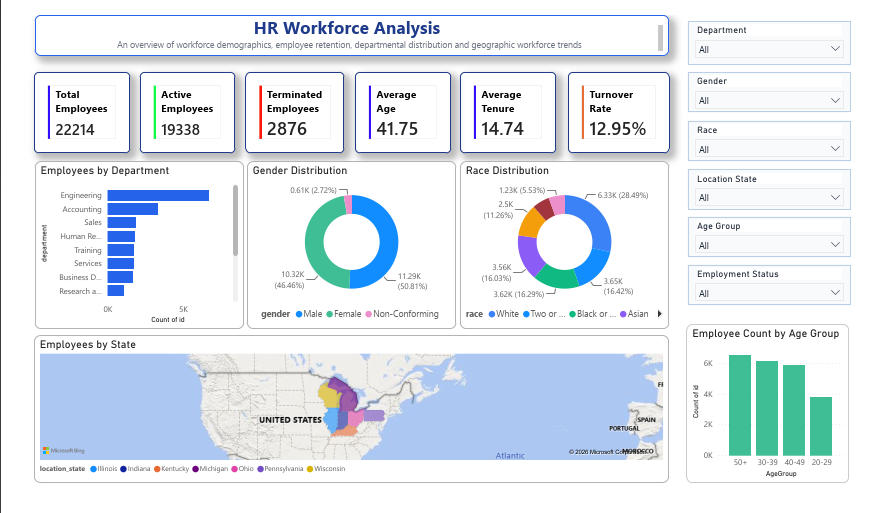

The dashboard page shown, as its layout file describes it:
{"tool":"powerbi","page":{"name":"Workforce Overview","canvas":[1280,720],"ordinal":0},"visuals":[{"type":"textbox","box":[24.2,0,976.2,63.5],"z":0},{"type":"cardVisual","title":"Total Employees","fields":{"Data":["HR.Total Employees"]},"box":[23.1,87.7,147.7,124.6],"z":1000},{"type":"cardVisual","title":"Total Employees","fields":{"Data":["HR.Active Employees"]},"box":[185.8,87.7,146.5,124.6],"z":2000},{"type":"cardVisual","title":"Total Employees","fields":{"Data":["HR.Terminated Employees"]},"box":[348.5,87.7,152.3,124.6],"z":3000},{"type":"cardVisual","title":"Total Employees","fields":{"Data":["HR.Turnover Rate"]},"box":[844.6,87.7,155.8,124.6],"z":4000},{"type":"cardVisual","title":"Total Employees","fields":{"Data":["HR.Average Tenure"]},"box":[678.5,87.7,147.7,124.6],"z":5000},{"type":"cardVisual","title":"Total Employees","fields":{"Data":["HR.Average Age"]},"box":[516.9,87.7,147.7,124.6],"z":6000},{"type":"clusteredBarChart","title":"Employees by Department","fields":{"Category":["HR.department"],"Y":["CountNonNull(HR.id)"]},"box":[24.2,225,321.9,258.5],"z":7000},{"type":"donutChart","title":"Gender Distribution","fields":{"Category":["HR.gender"],"Y":["CountNonNull(HR.id)"]},"box":[350.8,225,321.9,258.5],"z":8000},{"type":"donutChart","title":"Race Distribution","fields":{"Category":["HR.race"],"Y":["CountNonNull(HR.id)"]},"box":[678.5,225,321.9,258.5],"z":9000},{"type":"filledMap","title":"Employees by State","fields":{"Category":["HR.location_state"],"Series":["HR.location_state"]},"box":[23.1,492.7,977.3,227.3],"z":10000},{"type":"slicer","fields":{"Values":["HR.department"]},"box":[1029.2,9.2,250.4,66.9],"z":11000},{"type":"slicer","fields":{"Values":["HR.gender"]},"box":[1029.2,87.7,250.4,62.3],"z":12000},{"type":"slicer","fields":{"Values":["HR.race"]},"box":[1029.2,162.7,250.4,62.3],"z":13000},{"type":"slicer","fields":{"Values":["HR.EmploymentStatus"]},"box":[1029.2,384.2,250.4,62.3],"z":14000},{"type":"slicer","fields":{"Values":["HR.AgeGroup"]},"box":[1029.2,310.4,250.4,62.3],"z":15000},{"type":"slicer","fields":{"Values":["HR.location_state"]},"box":[1029.2,237.7,250.4,62.3],"z":16000},{"type":"clusteredColumnChart","title":"Employee Count by Age Group","fields":{"Category":["HR.AgeGroup"],"Y":["CountNonNull(HR.id)"]},"box":[1027.1,475.9,250.4,244.6],"z":17000}]}

Visuals, with their boxes on the page's 1280x720 design canvas (x1, y1, x2, y2). These are canvas units, not pixel positions in the 871x513 screenshot, which may show the page scaled, cropped or inside an application window:
textbox: pyautogui.locateOnScreen(24, 0, 1000, 64)
"Total Employees" cardVisual: pyautogui.locateOnScreen(23, 88, 171, 212)
"Total Employees" cardVisual: pyautogui.locateOnScreen(186, 88, 332, 212)
"Total Employees" cardVisual: pyautogui.locateOnScreen(348, 88, 501, 212)
"Total Employees" cardVisual: pyautogui.locateOnScreen(845, 88, 1000, 212)
"Total Employees" cardVisual: pyautogui.locateOnScreen(678, 88, 826, 212)
"Total Employees" cardVisual: pyautogui.locateOnScreen(517, 88, 665, 212)
"Employees by Department" clusteredBarChart: pyautogui.locateOnScreen(24, 225, 346, 484)
"Gender Distribution" donutChart: pyautogui.locateOnScreen(351, 225, 673, 484)
"Race Distribution" donutChart: pyautogui.locateOnScreen(678, 225, 1000, 484)
"Employees by State" filledMap: pyautogui.locateOnScreen(23, 493, 1000, 720)
slicer - HR.department: pyautogui.locateOnScreen(1029, 9, 1280, 76)
slicer - HR.gender: pyautogui.locateOnScreen(1029, 88, 1280, 150)
slicer - HR.race: pyautogui.locateOnScreen(1029, 163, 1280, 225)
slicer - HR.EmploymentStatus: pyautogui.locateOnScreen(1029, 384, 1280, 446)
slicer - HR.AgeGroup: pyautogui.locateOnScreen(1029, 310, 1280, 373)
slicer - HR.location_state: pyautogui.locateOnScreen(1029, 238, 1280, 300)
"Employee Count by Age Group" clusteredColumnChart: pyautogui.locateOnScreen(1027, 476, 1278, 720)
